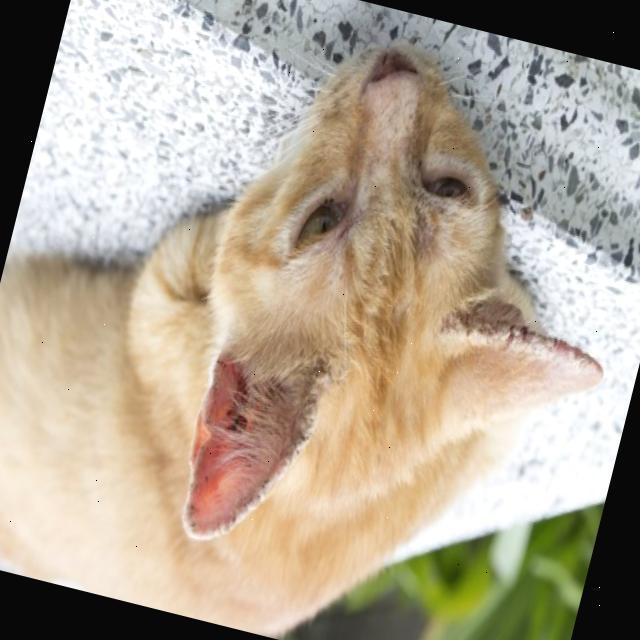cat-scabies: (438, 315, 602, 375), (289, 374, 323, 454), (408, 213, 442, 259)
